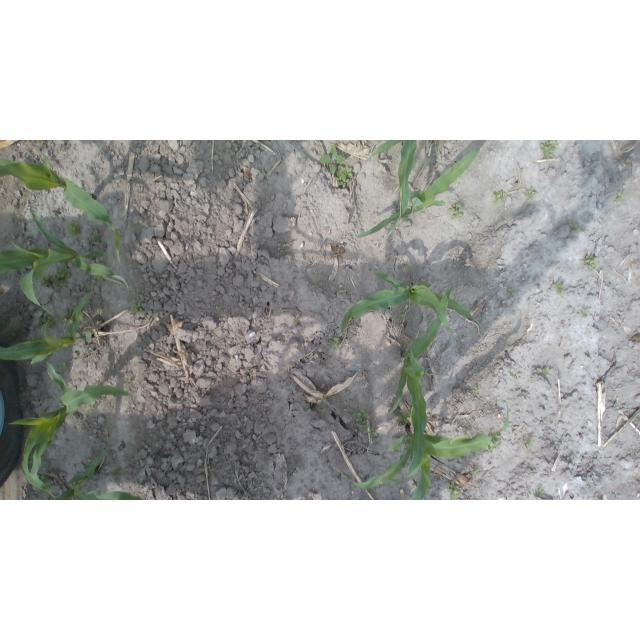Maize: (6, 361, 138, 500), (336, 408, 515, 499), (1, 208, 132, 322), (388, 286, 457, 481), (1, 156, 124, 264), (354, 147, 482, 240), (339, 271, 486, 340), (0, 290, 104, 367), (370, 141, 421, 244), (51, 452, 142, 501)
Weeds: (319, 146, 353, 187), (350, 408, 380, 440), (40, 265, 70, 288), (523, 484, 545, 499), (541, 141, 559, 159), (449, 203, 465, 217), (87, 234, 102, 248), (584, 255, 598, 269), (68, 222, 80, 238), (450, 487, 463, 498), (615, 190, 626, 203), (572, 224, 586, 233), (506, 286, 518, 296), (526, 438, 535, 451), (554, 283, 565, 293), (495, 192, 506, 202), (528, 188, 537, 200), (131, 303, 141, 312), (541, 368, 550, 376), (113, 468, 122, 476), (332, 336, 338, 348), (470, 468, 480, 475), (512, 370, 516, 379)
